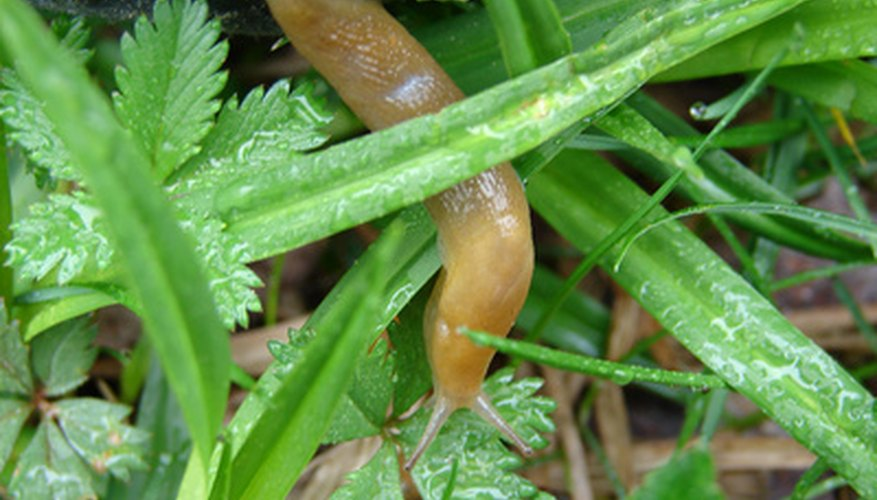slug: (255, 1, 536, 452)
